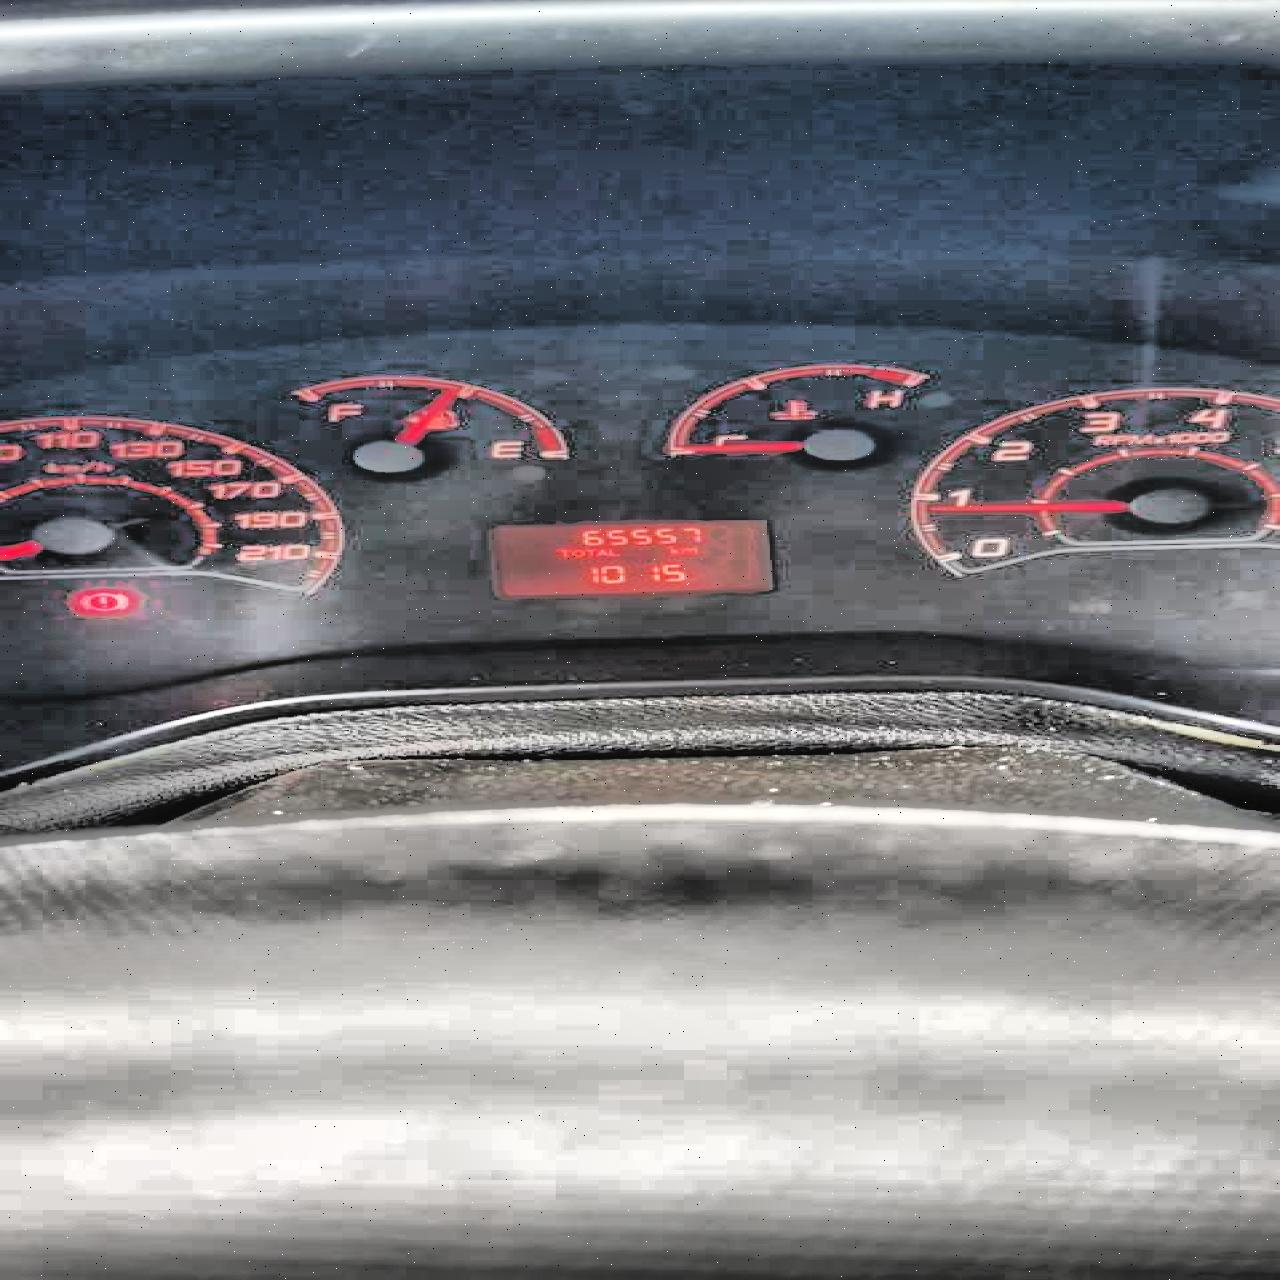0: (599, 564, 622, 583)
1: (649, 563, 660, 583), (587, 565, 598, 583)
5: (660, 563, 685, 581), (652, 526, 676, 544), (628, 527, 649, 545), (604, 527, 625, 545)
6: (577, 529, 601, 546)
7: (679, 526, 703, 542)
X: (679, 546, 697, 554), (553, 547, 568, 557), (570, 547, 583, 558), (607, 547, 618, 557), (666, 545, 675, 556), (597, 547, 607, 557), (583, 547, 593, 554)
odometer: (484, 512, 788, 602)
